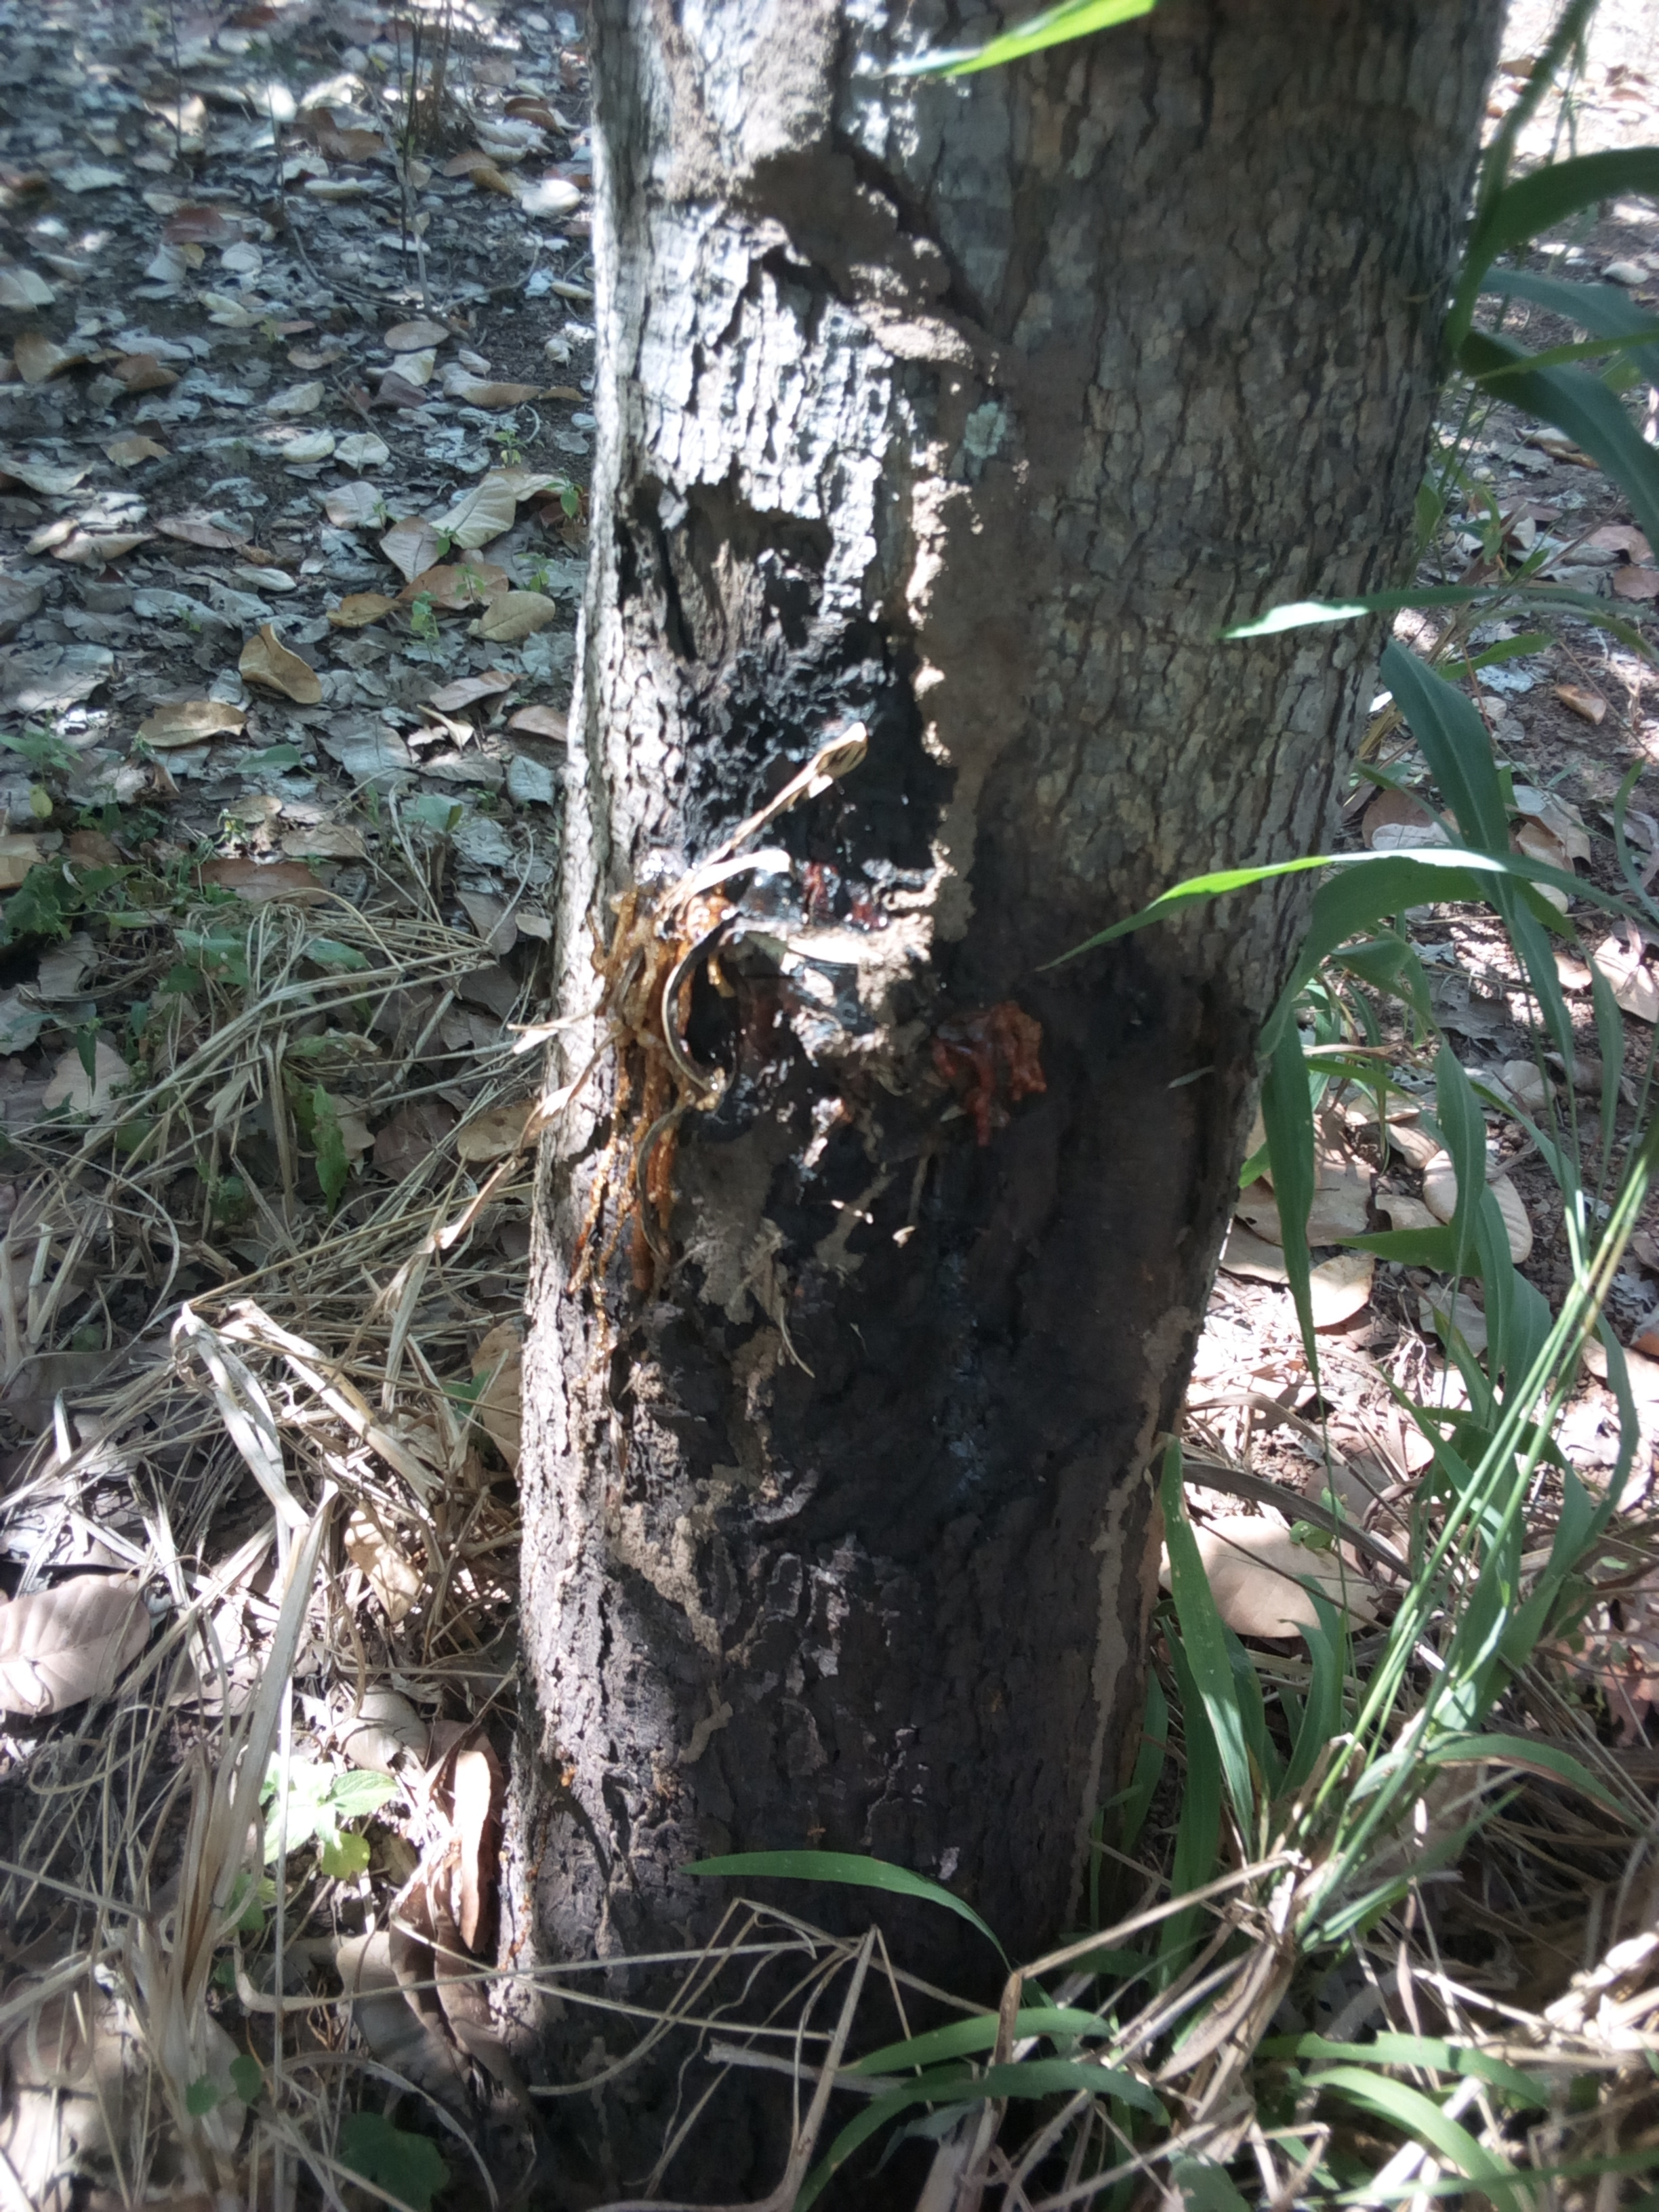Termites: (873, 260, 1042, 916), (1098, 1390, 1152, 1872)
